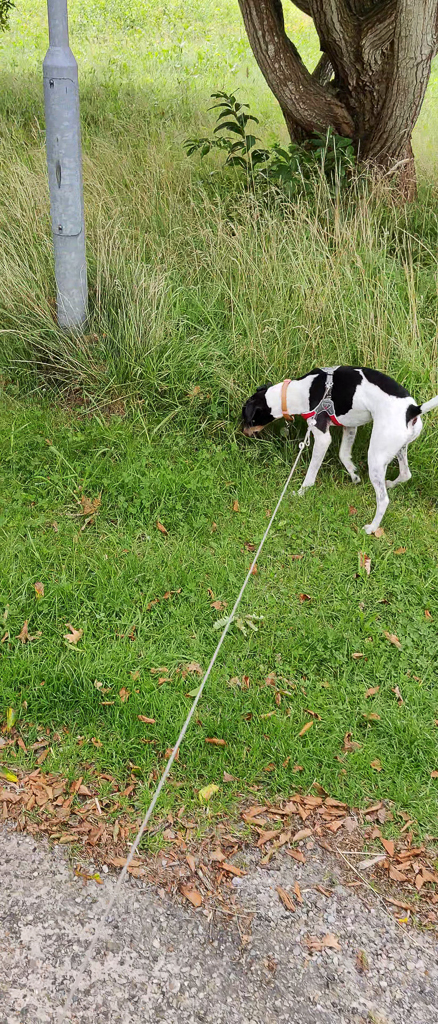Dog: (230, 357, 438, 539)
